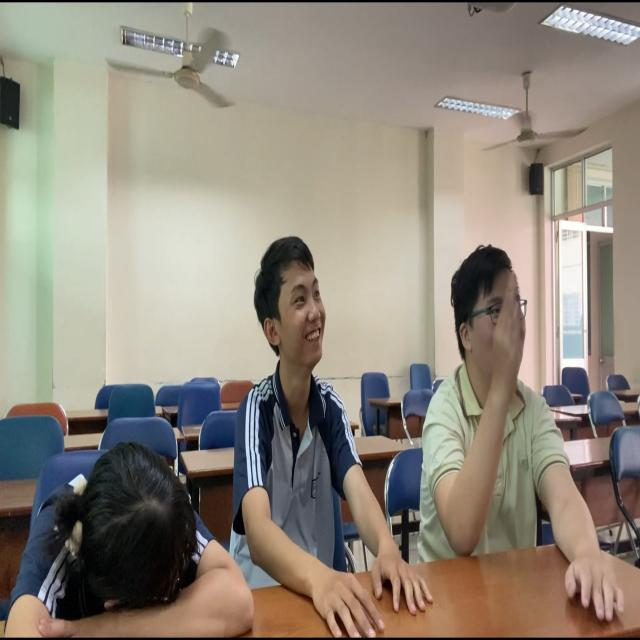raise_hand: (418, 238, 597, 583)
sleep: (6, 435, 260, 640)
